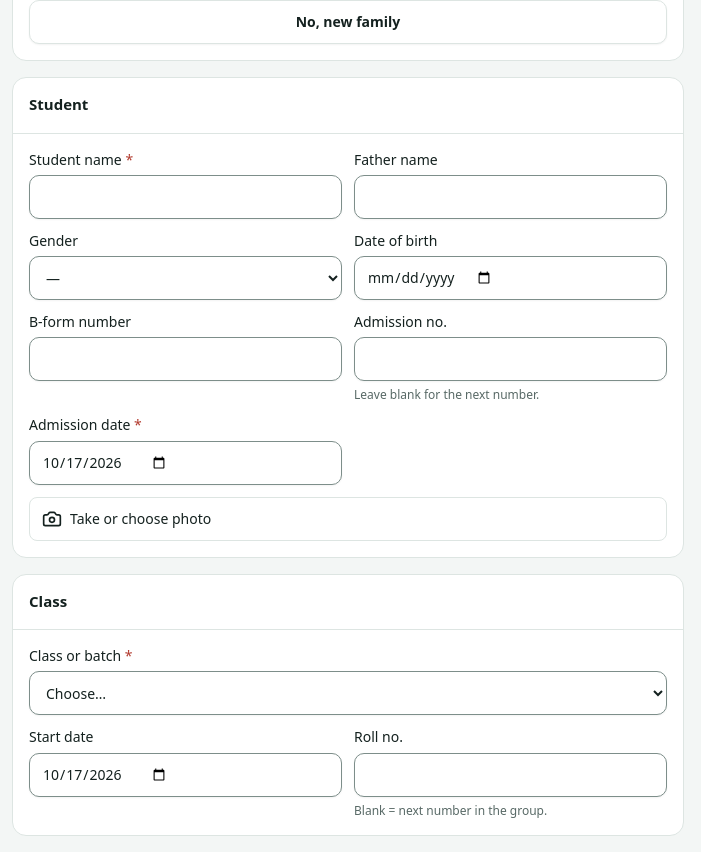
Scenario: admission form › keeps a full group pickable and warns without blocking (capacity is for planning)
(page scrolled)
Expected: the text "at or over its capacity" is not shown
Select " Class 5  ·  A  (Full)" in the dropdown labelled "Class or batch *": coordinates (348, 693) [29,671,667,715]
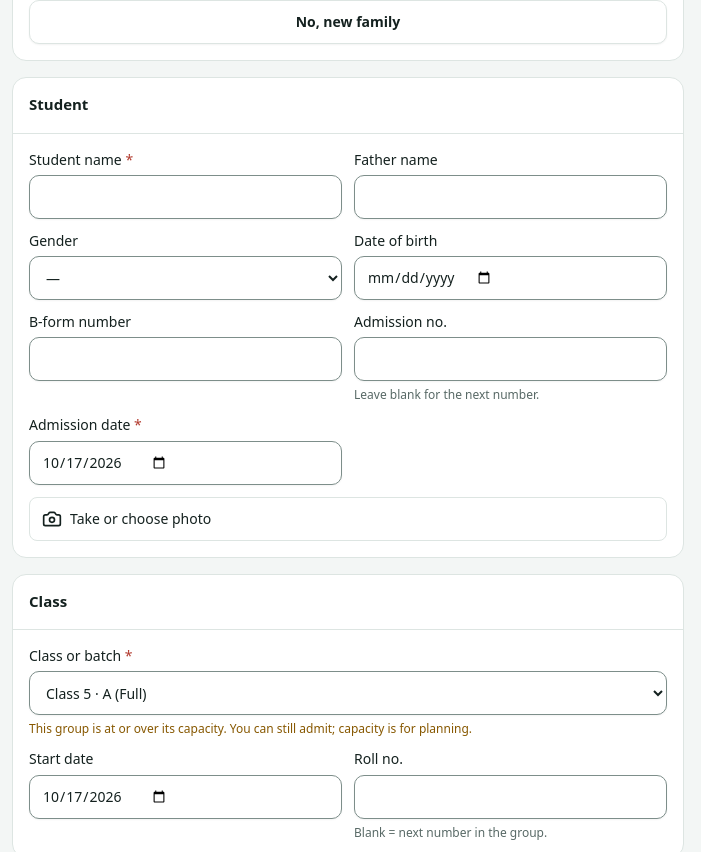
Result: the message shows "at or over its capacity" at [29,720,472,737]
